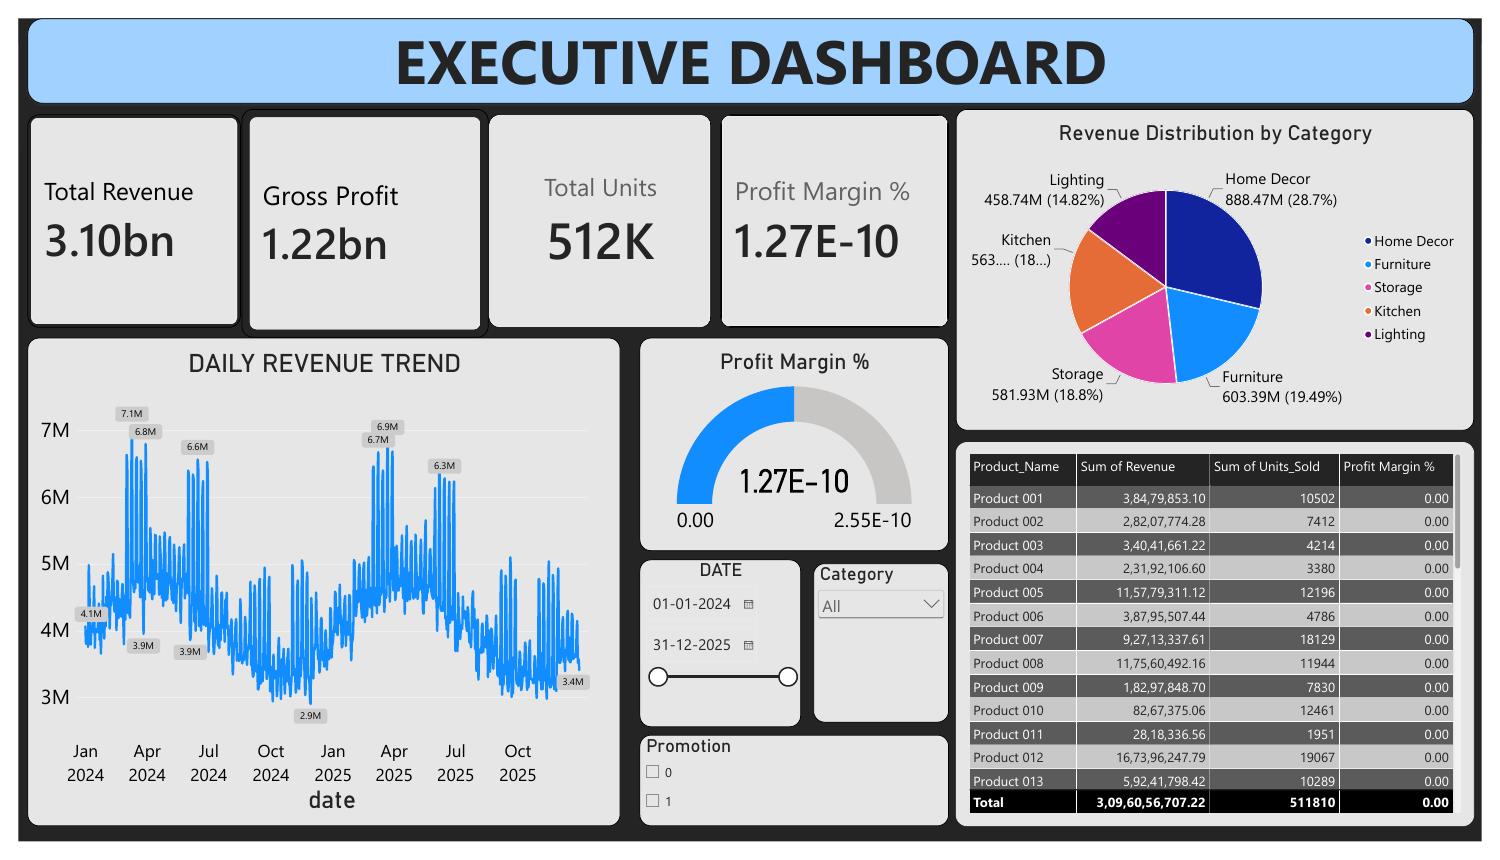

This screenshot's page, from the dashboard's own definition file:
{"tool":"powerbi","page":{"name":"Page 1","canvas":[1920,1080],"ordinal":0},"visuals":[{"type":"textbox","box":[19.9,16.3,1873,132.1],"z":0},{"type":"cardVisual","fields":{"Data":["Calendar.Gross Profit"]},"box":[264.2,177.3,224.4,137.5],"z":1000},{"type":"cardVisual","fields":{"Data":["sales_daily (2).Total Revenue"]},"box":[19.9,177.3,224.4,137.5],"z":2000},{"type":"cardVisual","fields":{"Data":["sales_daily (2).Profit Margin %"]},"box":[19.9,327.5,224.4,137.5],"z":3000},{"type":"cardVisual","fields":{"Data":["sales_daily (2).Total Units"]},"box":[19.9,485,224.4,137.5],"z":4000},{"type":"slicer","fields":{"Values":["Inventory_Snapshots.SKU"]},"box":[504.9,327.5,224.4,137.5],"z":5000},{"type":"slicer","fields":{"Values":["SKU_Master.Category"]},"box":[264.2,327.5,224.4,137.5],"z":6000},{"type":"slicer","fields":{"Values":["SKU_Master.Product_Name"]},"box":[504.9,177.3,224.4,137.5],"z":7000},{"type":"slicer","fields":{"Values":["Sales_Daily.Date"]},"box":[260.6,485,468.7,137.5],"z":8000},{"type":"lineChart","title":"Daily Revenue Trend","fields":{"Category":["Calendar.date.Variation.Date Hierarchy.Year","Calendar.date.Variation.Date Hierarchy.Quarter","Calendar.date.Variation.Date Hierarchy.Month","Calendar.date.Variation.Date Hierarchy.Day"],"Y":["sales_daily (2).Total Profit"]},"box":[19.9,640.6,1022.5,425.3],"z":9000},{"type":"pieChart","title":"Revenue Distribution by Category ","fields":{"Category":["SKU_Master.Category"],"Y":["sales_daily (2).Total Revenue"]},"box":[1058.7,640.6,834.3,425.3],"z":10000},{"type":"tableEx","title":"Top 5 Product by Revenue","fields":{"Values":["SKU_Master.Product_Name","sales_daily (2).Total Revenue","sales_daily (2).Total Units","sales_daily (2).Profit Margin %"]},"box":[1344.6,177.3,548.3,437.9],"z":11000},{"type":"gauge","fields":{"TargetValue":["Calendar.profit margin"],"Y":["sales_daily (2).Profit Margin %"]},"box":[767.3,177.3,550.1,437.9],"z":12000}]}

Visuals, with their boxes in screenshot pixels (x1, y1, x2, y2), scaled from the page's 1920x1080 canvas onto the 1500x860 screenshot:
textbox: [left=16, top=13, right=1479, bottom=118]
cardVisual - Calendar.Gross Profit: [left=206, top=141, right=382, bottom=251]
cardVisual - sales_daily (2).Total Revenue: [left=16, top=141, right=191, bottom=251]
cardVisual - sales_daily (2).Profit Margin %: [left=16, top=261, right=191, bottom=370]
cardVisual - sales_daily (2).Total Units: [left=16, top=386, right=191, bottom=496]
slicer - Inventory_Snapshots.SKU: [left=394, top=261, right=570, bottom=370]
slicer - SKU_Master.Category: [left=206, top=261, right=382, bottom=370]
slicer - SKU_Master.Product_Name: [left=394, top=141, right=570, bottom=251]
slicer - Sales_Daily.Date: [left=204, top=386, right=570, bottom=496]
"Daily Revenue Trend" lineChart: [left=16, top=510, right=814, bottom=849]
"Revenue Distribution by Category " pieChart: [left=827, top=510, right=1479, bottom=849]
"Top 5 Product by Revenue" tableEx: [left=1050, top=141, right=1479, bottom=490]
gauge - Calendar.profit margin x sales_daily (2).Profit Margin %: [left=599, top=141, right=1029, bottom=490]
